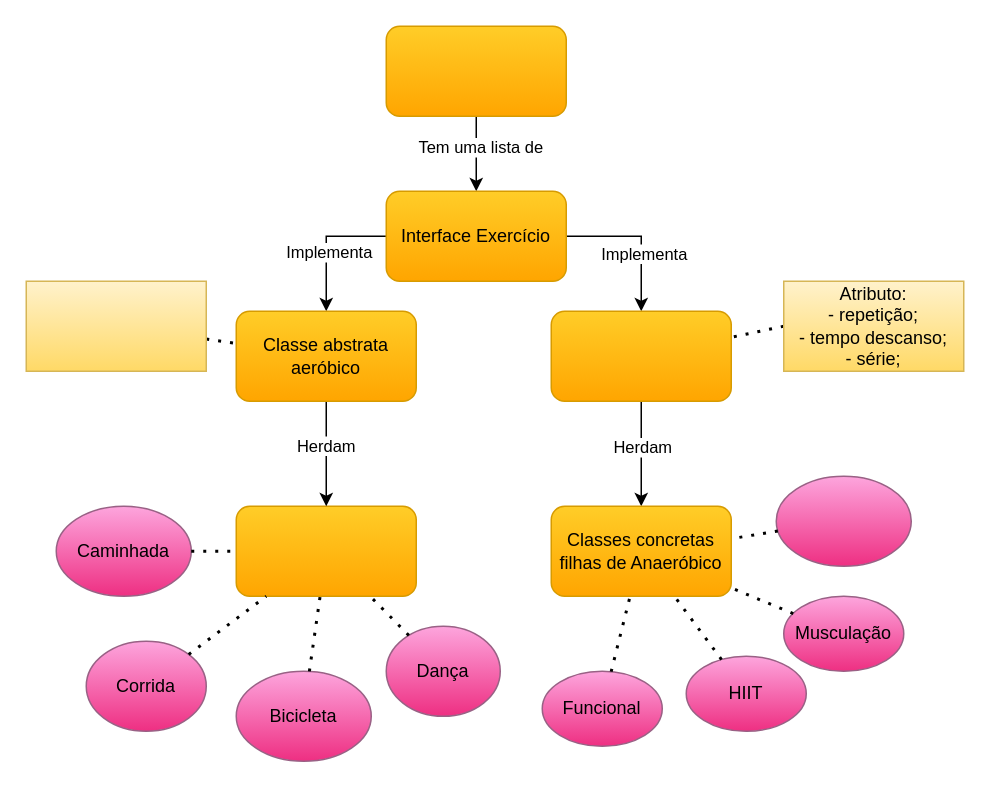
This 990x788 diagram has some shape labels left out. The shapes that lost their labels are listed below. From the top down, each one's box as (x1, y1, x2, y2) in pixels, then its label:
(385, 25, 566, 116): Classe concreta Treino
(25, 280, 206, 371): Atributo: - duração; -calorias gastas;
(550, 310, 731, 401): Classe abstrata anaeróbico
(775, 475, 911, 566): Levantamento de Peso
(235, 505, 416, 596): Classes concretas filhas de Aeróbico
